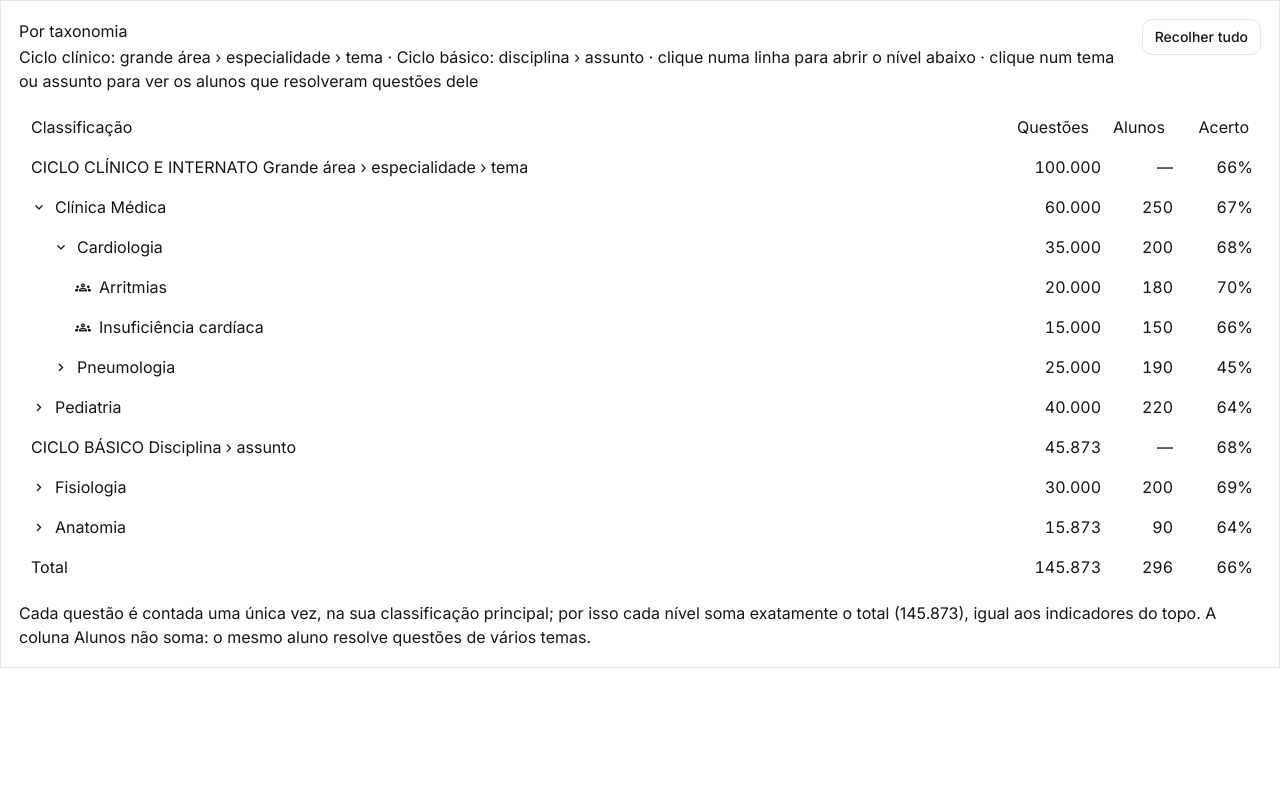
it: GavetaTaxonomia — pop-up de alunos (§12.3) › tema: sobretítulo "Clínica Médica › Cardiologia", título, resumo e colunas
This screenshot has width=1280, height=800.
Click the button with aria-label "Ver alunos do tema Arritmias". click: (121, 287)
box: [75, 275, 167, 299]
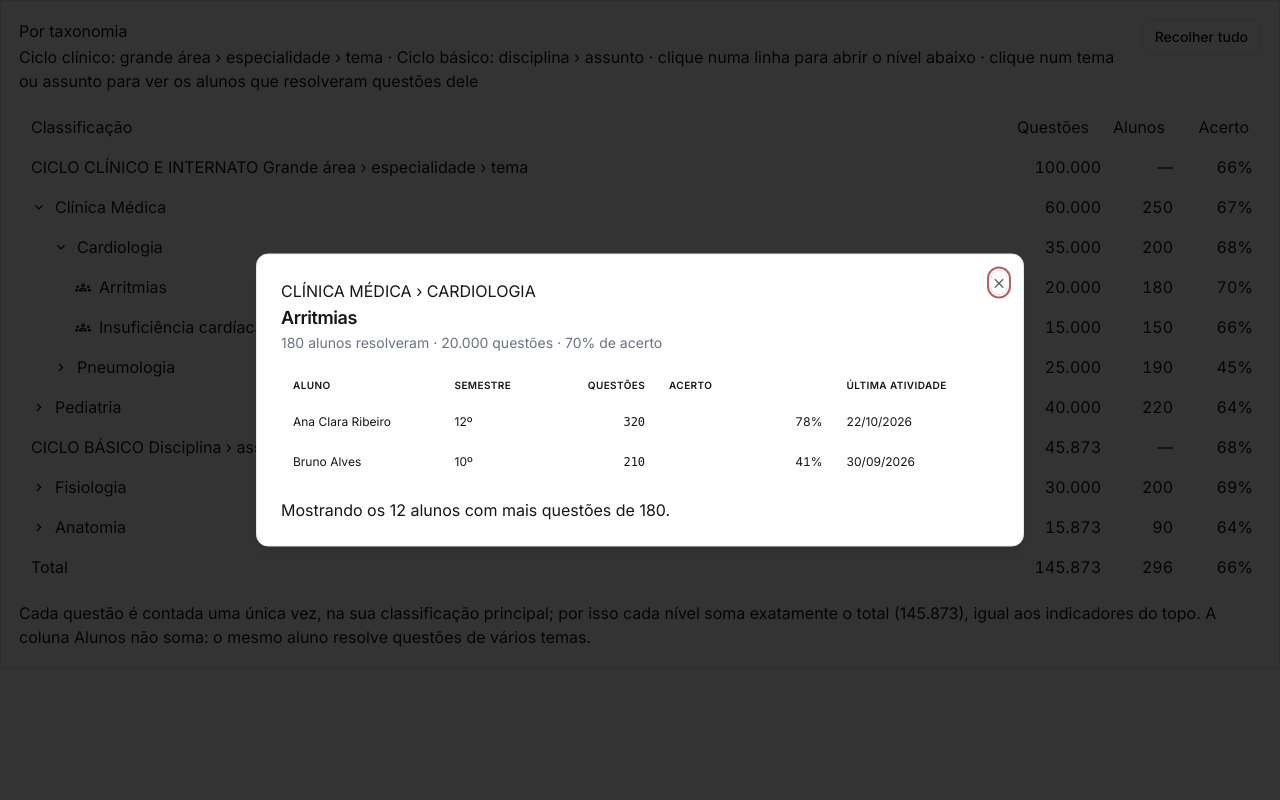
expect the text "Clínica Médica › Cardiologia" is shown: met, box [281, 280, 536, 300]
expect the heading "Arritmias" is shown: met, box [281, 306, 357, 328]
expect the text "180 alunos resolveram · 20.000 questões · 70% de acerto" is shown: met, box [281, 334, 662, 350]
